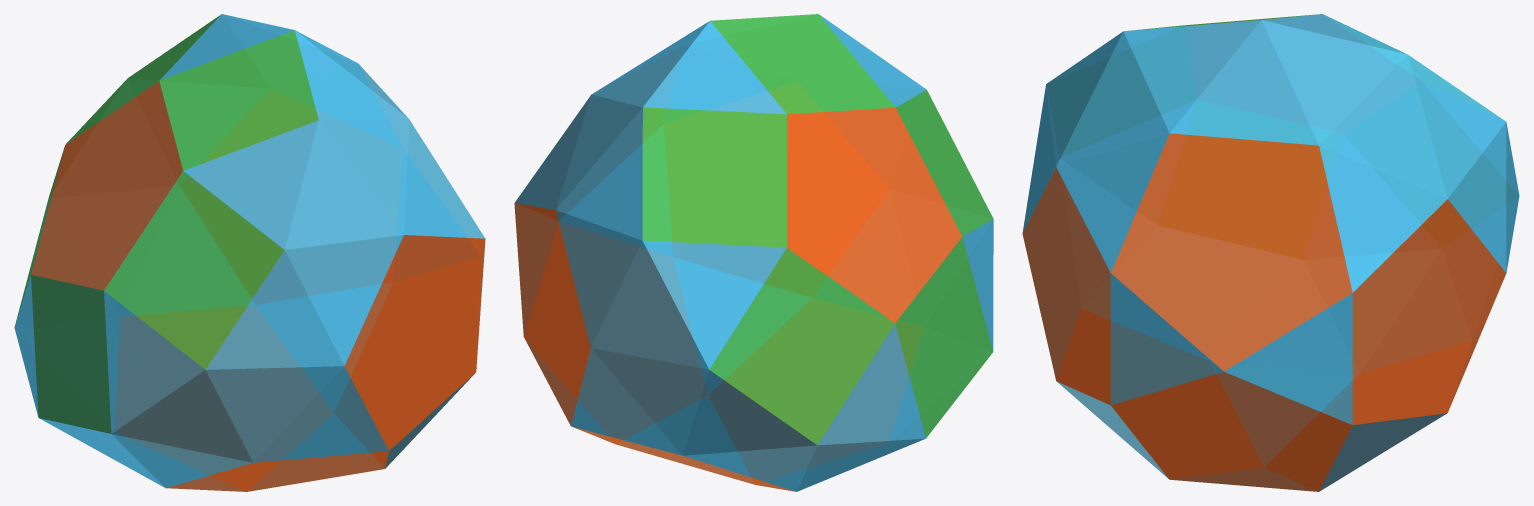
Rendered from j47_gyroelongated_pentagonal_cupolarotunda.obj.
3 views of the same model, side by side, from view 1: azimuth 30°, elevation 25°; view 2: azimuth 150°, elevation 25°; view 3: azimuth 270°, elevation 25° (orthographic). The views are drawn at different scales.
Bounding box in the file's own units: 1.92 × 2.04 × 1.95.
